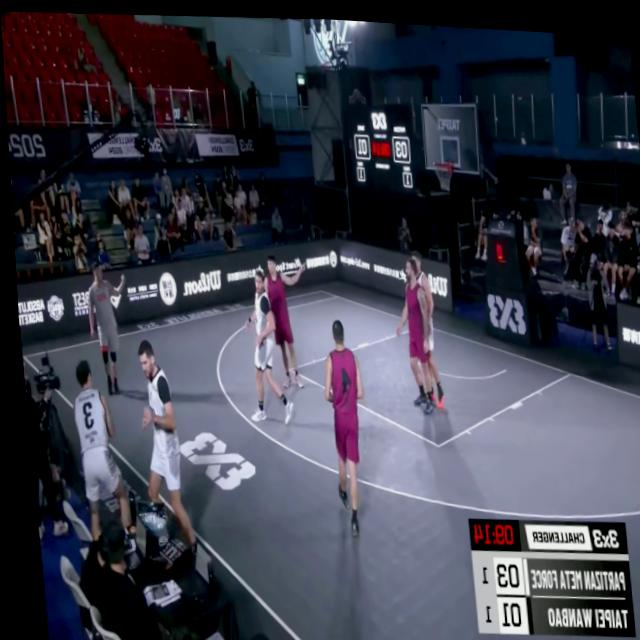hoop: (427, 148, 456, 188)
player: (131, 331, 198, 559), (310, 312, 365, 531), (65, 358, 128, 545), (387, 246, 441, 409), (235, 265, 285, 425), (258, 246, 310, 391), (387, 254, 433, 416)
